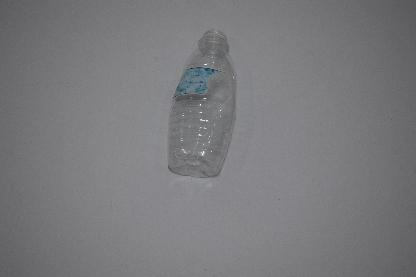Plastic Bottle: (167, 29, 237, 177)
